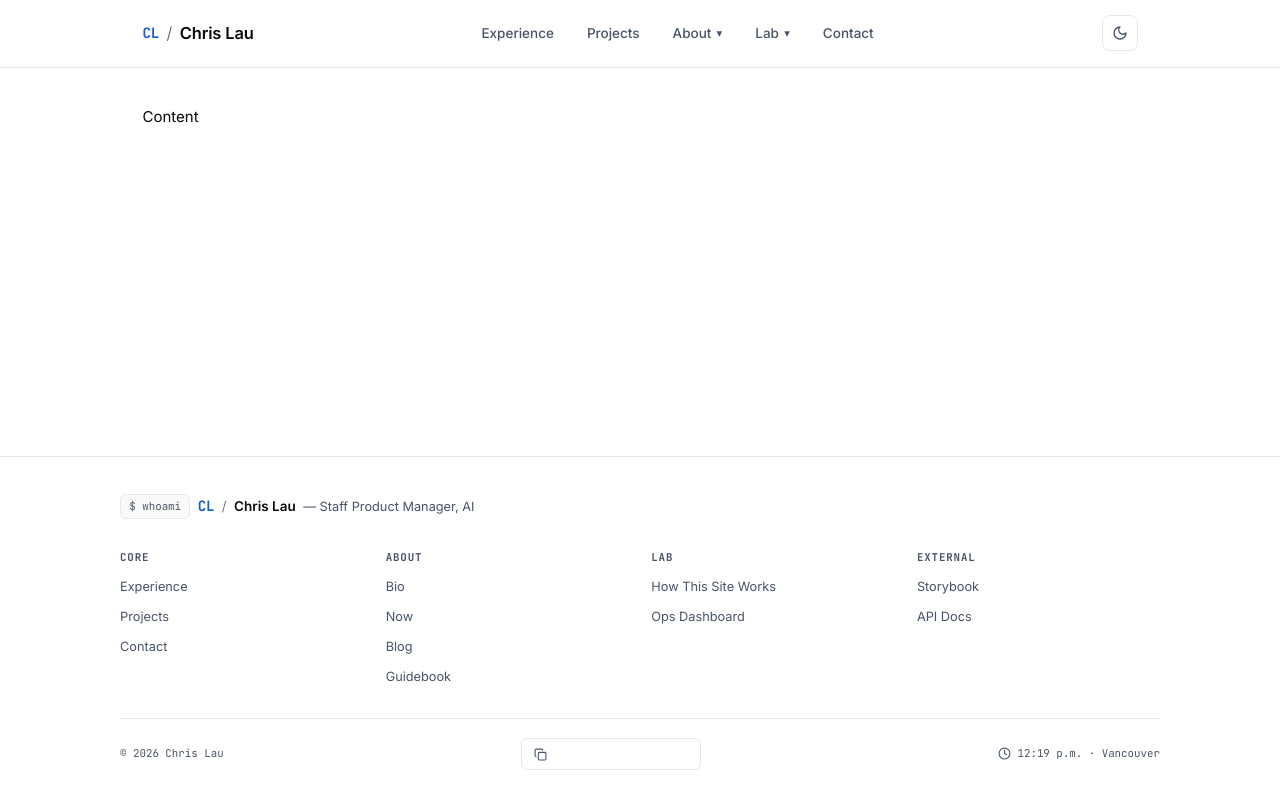
Submenu Navigation Component Tests › renders consolidated top-level groups and opens submenus on interaction in ModernLayout
Expected: the 1st link "Experience" is shown, [482,24,554,40]
Expected: the 1st link "Projects" is shown, [587,24,640,40]
Note: Click 'About' trigger to open dropdown
Click the button "About ▾" at (697, 33), box [660,18,735,49]
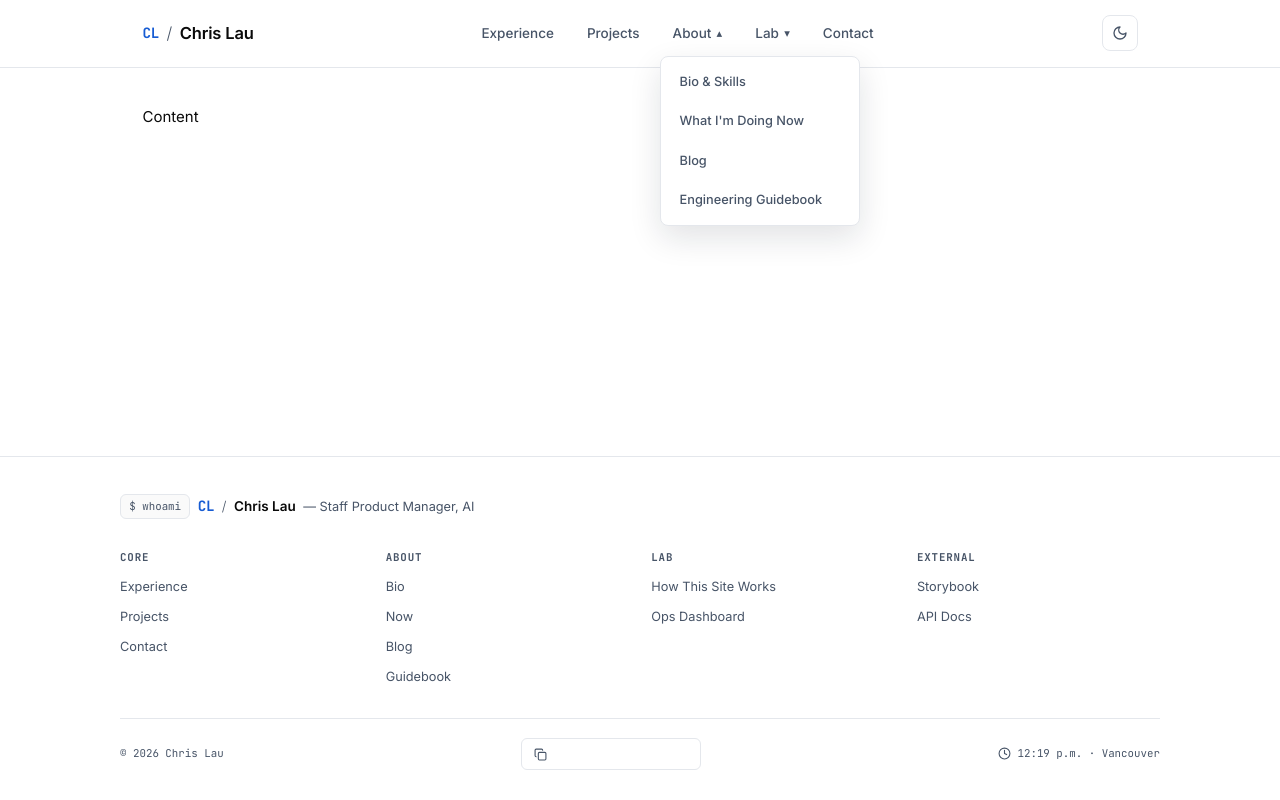
Expected: the menu item "Bio & Skills" is shown, [680,74,746,89]
Expected: the menu item "What I'm Doing Now" is shown, [680,113,804,128]
Expected: the menu item "Blog" is shown, [680,153,707,168]
Note: Pressing Escape should close dropdown
Press Escape
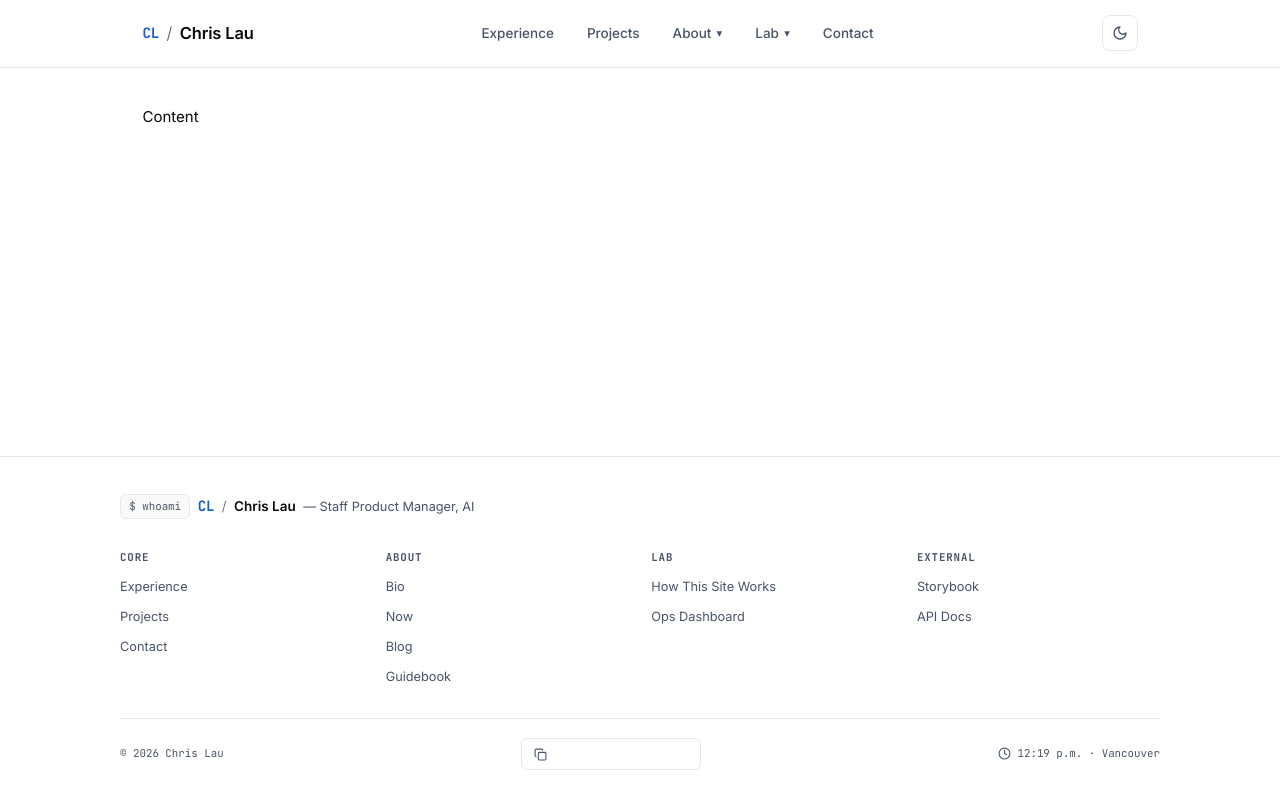
Note: Lab dropdown should contain How This Site Works and Live Ops Dashboard
Click the button "Lab ▾" at (773, 33), box [742,18,803,49]
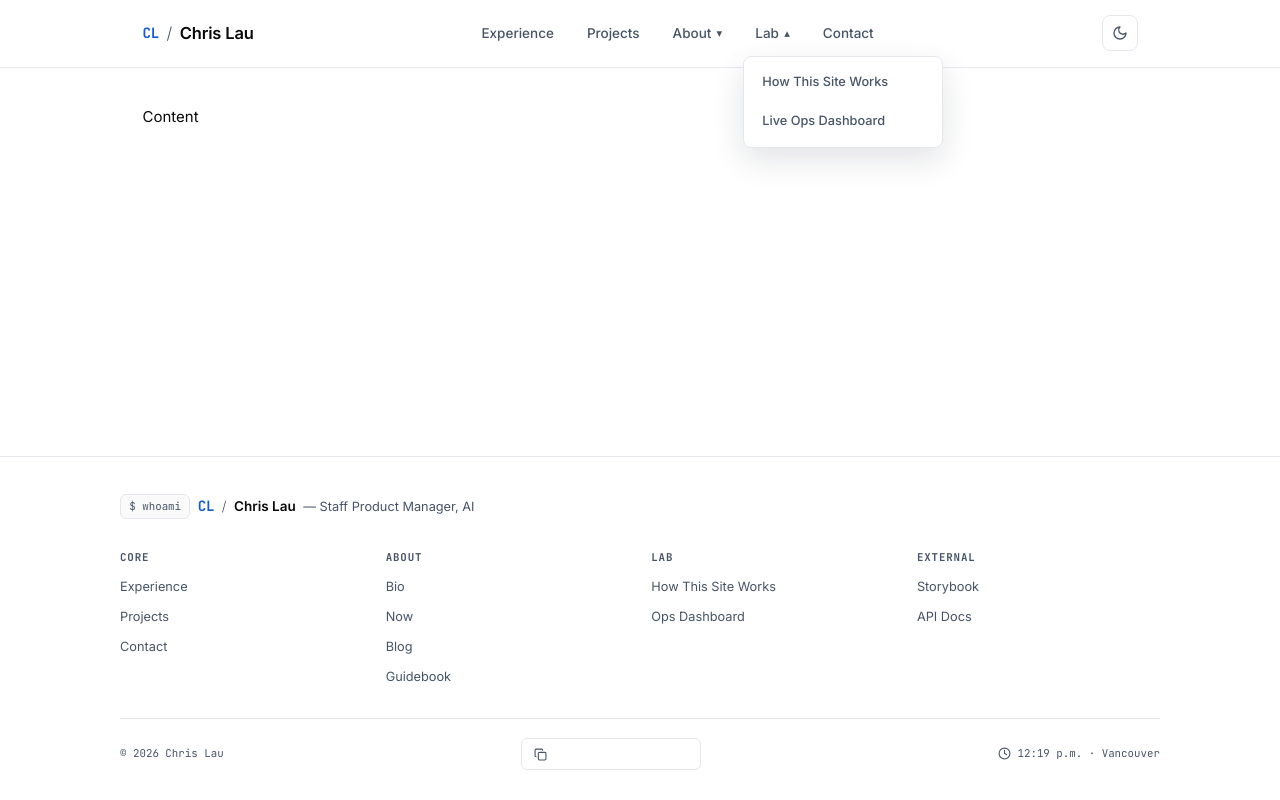
Expected: the menu item "How This Site Works" is shown, [762,74,888,89]
Expected: the menu item "Live Ops Dashboard" is shown, [762,113,885,128]
